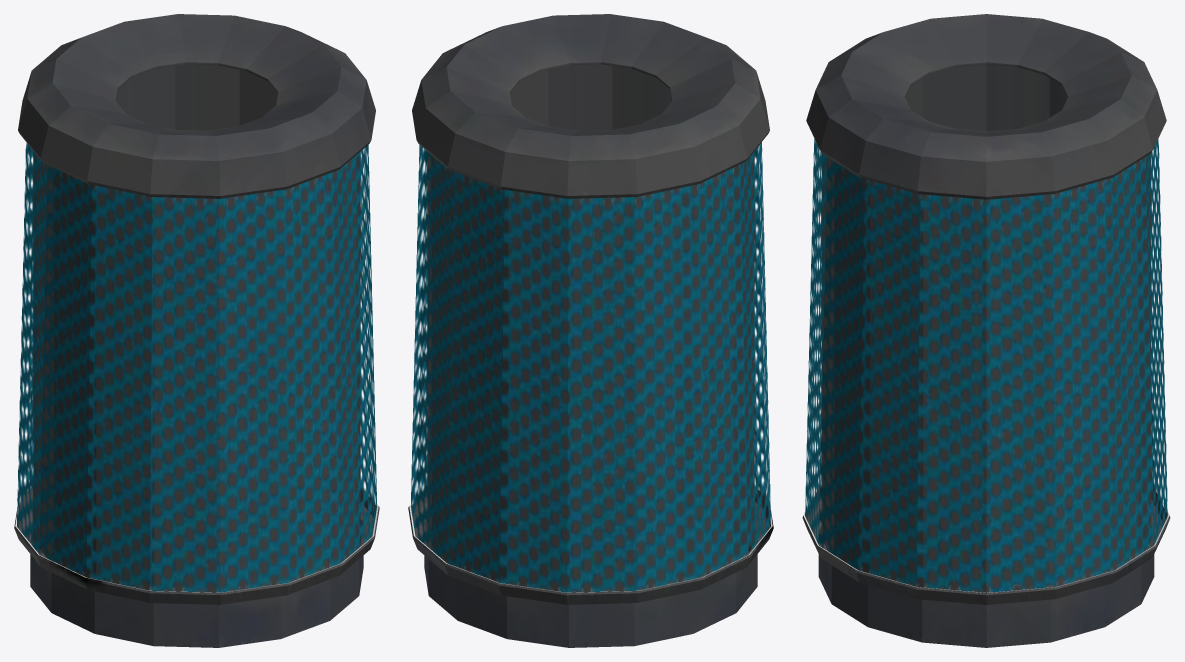
File: strProp_14.glb
3 renders of one model, left to right at view 1: azimuth 30°, elevation 25°; view 2: azimuth 150°, elevation 25°; view 3: azimuth 270°, elevation 25°, orthographic.
Visible parts, largest first — view 1: geometry_0; view 2: geometry_0; view 3: geometry_0.
Boxes of the visible parts, x1,y1,x2,y2 form: geometry_0: (14, 14, 379, 647); geometry_0: (408, 14, 773, 647); geometry_0: (802, 14, 1170, 647).
Bounding box in the file's own units: 0.6087 × 0.9156 × 0.6087.
1 material, 1 textured.
